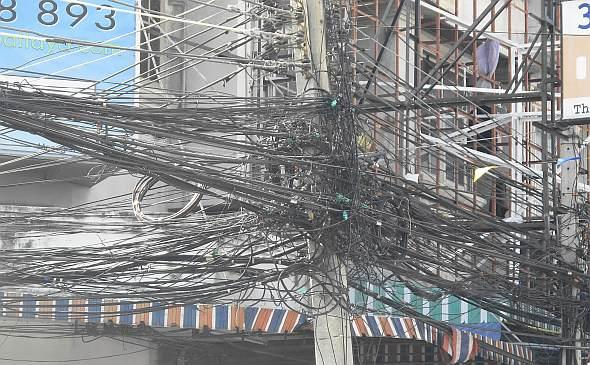wires-only: (0, 68, 308, 312), (346, 131, 589, 349)
